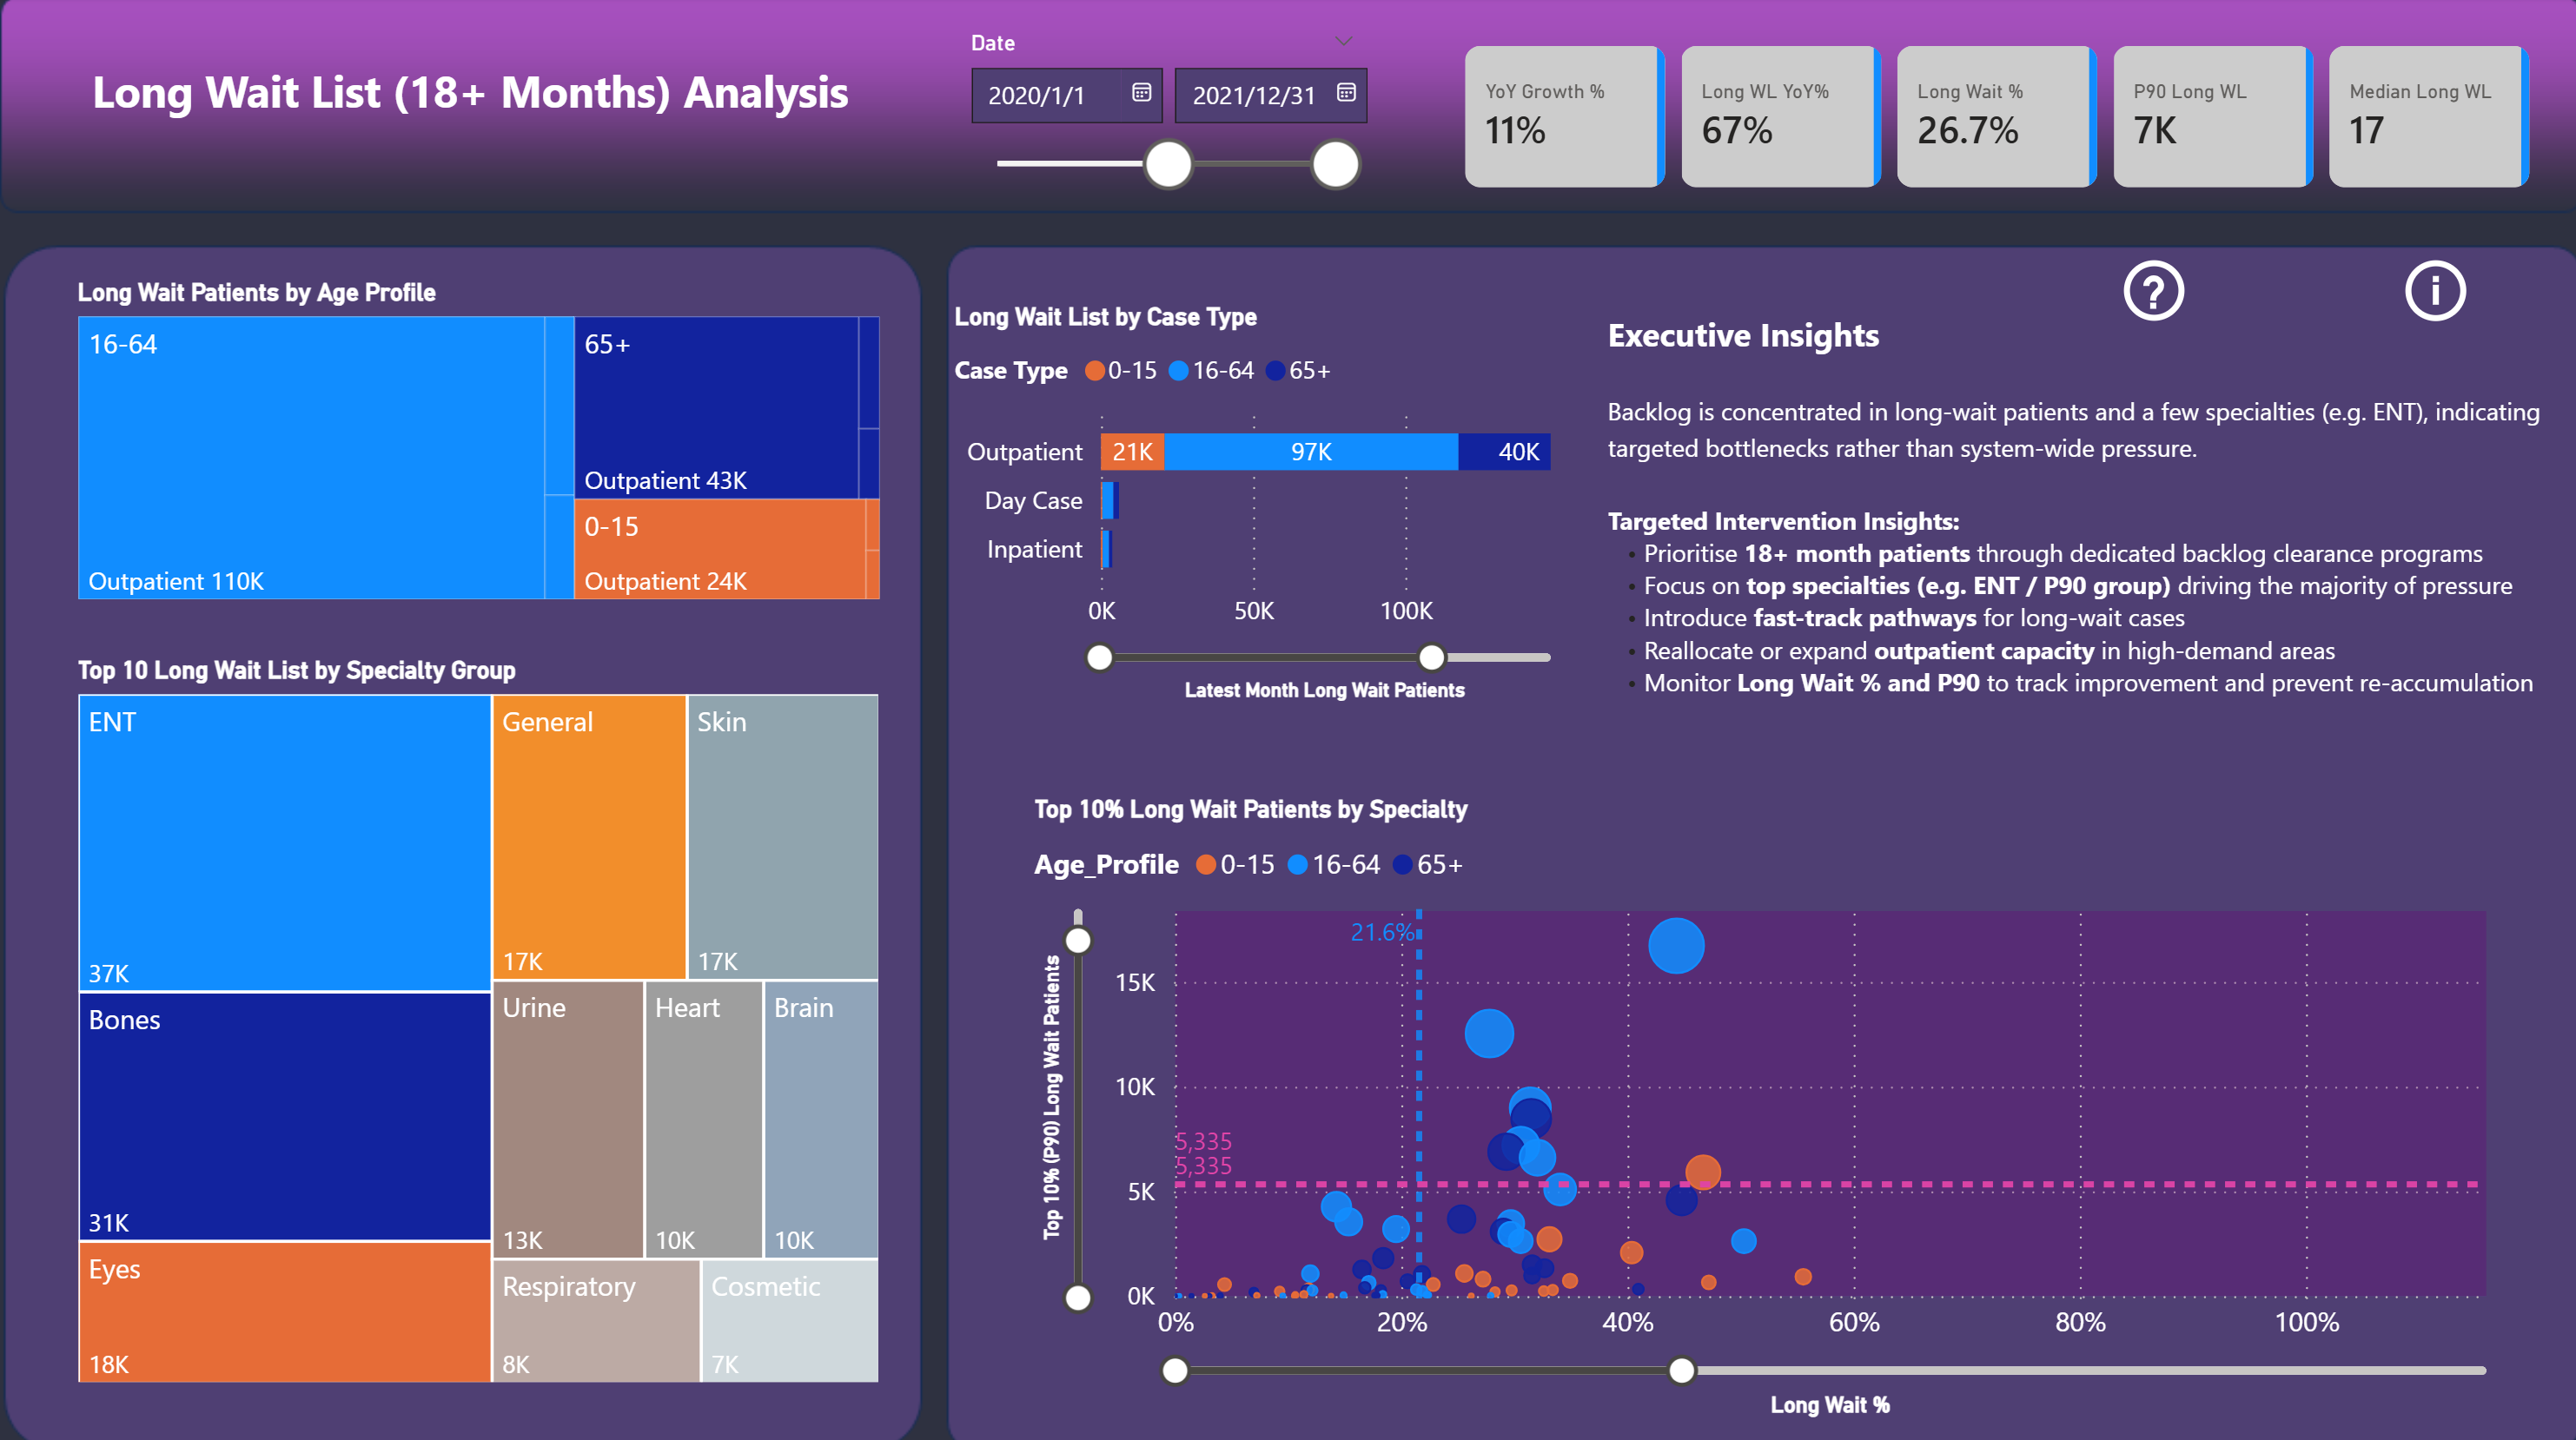

This screenshot's page, from the dashboard's own definition file:
{"tool":"powerbi","page":{"name":"Executive ","canvas":[1280,720],"ordinal":3},"visuals":[{"type":"slicer","fields":{"Values":["DateTable.Date"]},"box":[468.2,11.3,215.1,95.9],"z":0},{"type":"cardVisual","fields":{"Data":["Measures Table.YoY Growth %","Measures Table.YoY Long WL Growth %","Measures Table.Long Wait %","Measures Table.P90 Long Waiting List","Measures Table.Median Long Wait List"]},"box":[719.6,18.1,541.5,82.6],"z":1000},{"type":"treemap","title":"Top 10 Long Wait List by Specialty Group","fields":{"Values":["Measures Table.Latest Month Long Wait Patients"],"Group":["Mapping_Specialty.Specialty Group Hierarchy.Specialty Group","Mapping_Specialty.Specialty Group Hierarchy.Specialty"]},"box":[33.6,325.9,406.6,365.3],"z":2000},{"type":"textbox","box":[791.6,150.6,481.8,202.7],"z":3000},{"type":"treemap","title":"Long Wait Patients by Age Profile","fields":{"Group":["All_Data.Age_Profile"],"Values":["Measures Table.Latest Month Long Wait Patients"],"Details":["All_Data.Case_Type"]},"box":[33.5,138.5,406.8,164.2],"z":4000},{"type":"actionButton","box":[1186,125.5,44.4,40.2],"z":5000},{"type":"textbox","box":[40.7,25.7,406.8,57.1],"z":6000},{"type":"barChart","title":"Long Wait List by Case Type","fields":{"Category":["All_Data.Case_Type"],"Y":["Measures Table.Latest Month Long Wait Patients"],"Series":["All_Data.Age_Profile"]},"box":[468.2,150.9,318.7,202.4],"z":7000},{"type":"scatterChart","title":"Top 10% Long Wait Patients by Specialty","fields":{"Category":["Mapping_Specialty.Specialty Group Hierarchy.Specialty Group","Mapping_Specialty.Specialty Group Hierarchy.Specialty"],"Series":["All_Data.Age_Profile"],"Y":["Measures Table.P90 Long Waiting List"],"Size":["Measures Table.P90 Long Waiting List"],"X":["Measures Table.Long Wait %"]},"box":[507,394.9,746,313.1],"z":9000},{"type":"actionButton","box":[1075.8,125.8,49.7,40],"z":9003}]}

Visuals, with their boxes in screenshot pixels (x1, y1, x2, y2), scaled from the page's 1280x720 canvas onto the 2576x1440 screenshot:
slicer - DateTable.Date: {"left": 943, "top": 23, "right": 1375, "bottom": 215}
cardVisual - Measures Table.YoY Growth % x Measures Table.YoY Long WL Growth %: {"left": 1448, "top": 36, "right": 2538, "bottom": 201}
"Top 10 Long Wait List by Specialty Group" treemap: {"left": 68, "top": 651, "right": 886, "bottom": 1383}
textbox: {"left": 1593, "top": 301, "right": 2563, "bottom": 707}
"Long Wait Patients by Age Profile" treemap: {"left": 68, "top": 277, "right": 886, "bottom": 605}
actionButton: {"left": 2387, "top": 251, "right": 2476, "bottom": 332}
textbox: {"left": 82, "top": 51, "right": 901, "bottom": 166}
"Long Wait List by Case Type" barChart: {"left": 943, "top": 301, "right": 1584, "bottom": 707}
"Top 10% Long Wait Patients by Specialty" scatterChart: {"left": 1020, "top": 789, "right": 2521, "bottom": 1416}
actionButton: {"left": 2165, "top": 252, "right": 2265, "bottom": 332}
